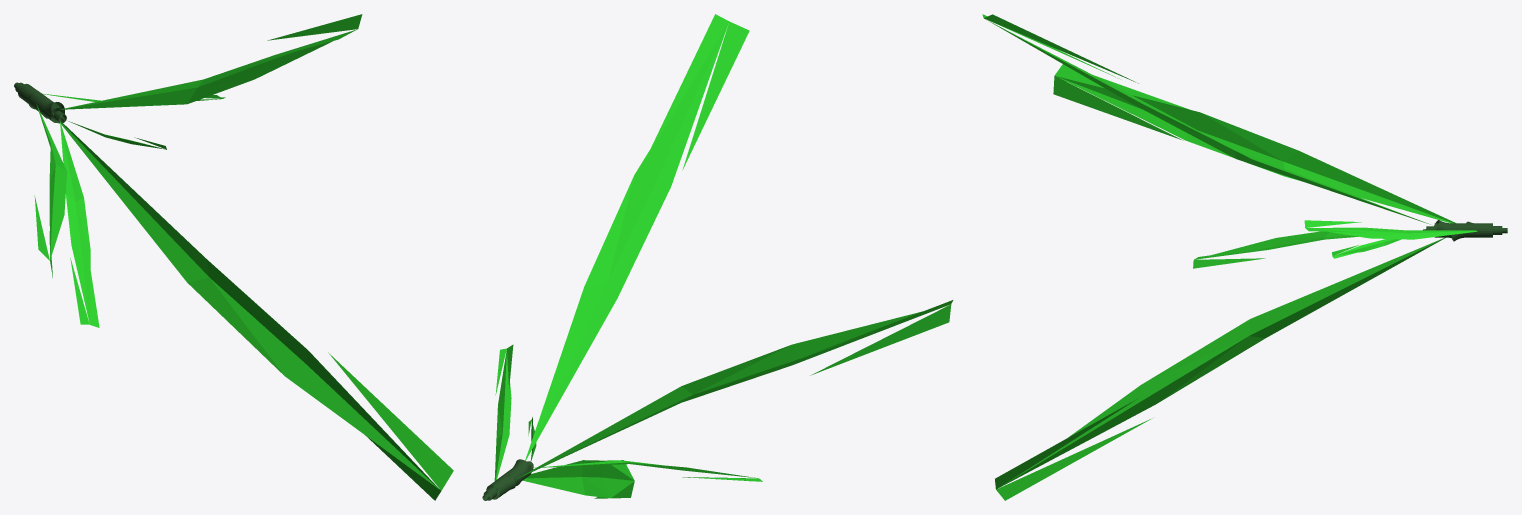
The model's file is onion_1.dae.
3 views of the same model, side by side, from view 1: azimuth 30°, elevation 25°; view 2: azimuth 150°, elevation 25°; view 3: azimuth 270°, elevation 25° (orthographic). The views are drawn at different scales.
Parts seen in each view (by area): view 1: node; view 2: node; view 3: node.
Part boxes in pixels (<box>): node: <box>14,14,453,500</box>; node: <box>482,14,953,500</box>; node: <box>982,14,1507,500</box>.
Size of the model in its own units: 0.2014 by 0.261 by 0.2747.
